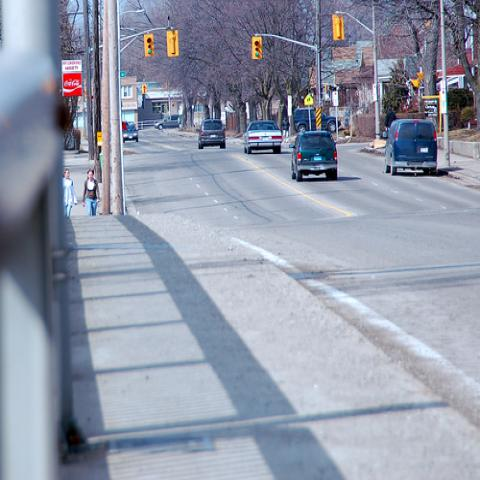car: (383, 118, 437, 176), (289, 130, 339, 183), (243, 122, 282, 154), (292, 108, 341, 132), (196, 119, 225, 149), (154, 114, 182, 131), (123, 125, 138, 144)
